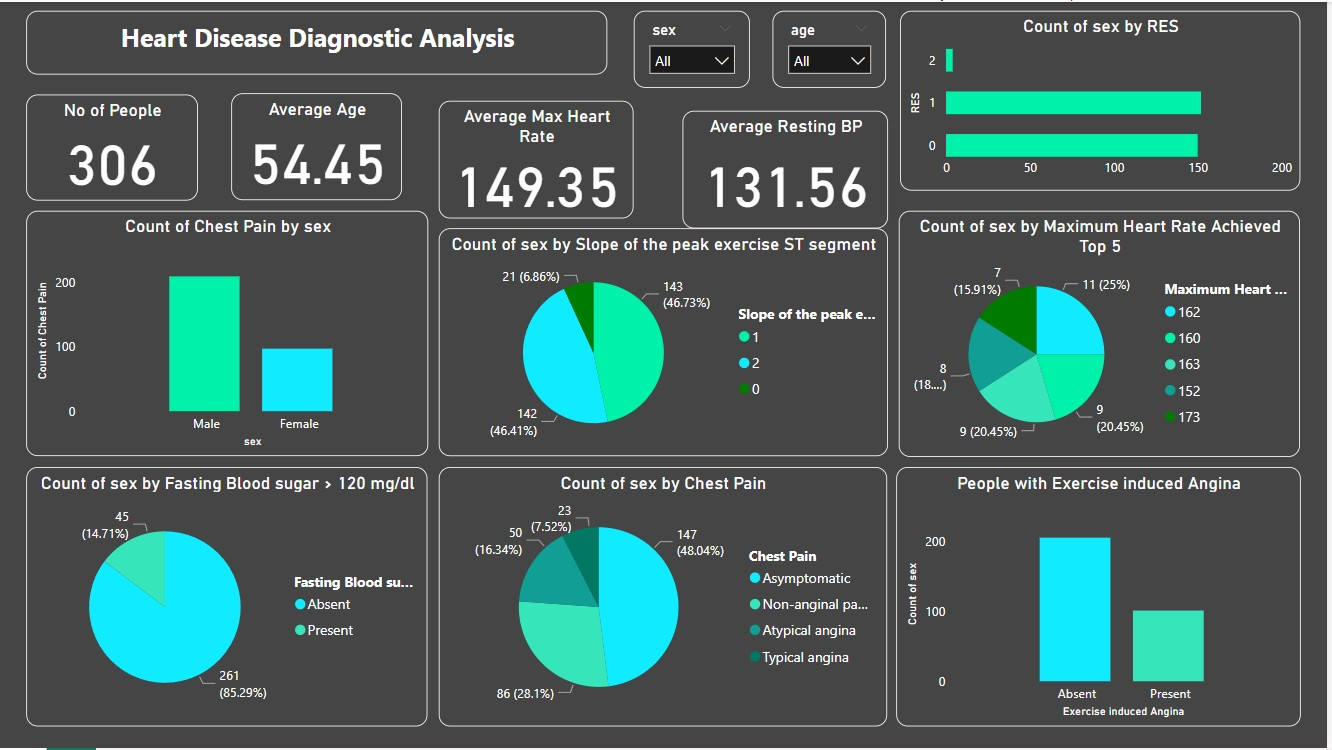

The dashboard page shown, as its layout file describes it:
{"tool":"powerbi","page":{"name":"Page 1","canvas":[1280,720],"ordinal":0},"visuals":[{"type":"columnChart","fields":{"Category":["Heart Disease data.sex"],"Y":["CountNonNull(Heart Disease data.Chest Pain)"]},"box":[25,201.7,388.3,236.7],"z":0},{"type":"pieChart","fields":{"Y":["CountNonNull(Heart Disease data.sex)"],"Category":["Heart Disease data.Chest Pain"]},"box":[423.8,448.8,432.5,250],"z":1000},{"type":"slicer","fields":{"Values":["Heart Disease data.sex"]},"box":[611.7,8.4,112.2,74.8],"z":2000},{"type":"pieChart","fields":{"Y":["CountNonNull(Heart Disease data.sex)"],"Category":["Heart Disease data.Fasting Blood sugar > 120 mg/dl"]},"box":[25,448.8,387.5,250],"z":3000},{"type":"clusteredColumnChart","title":"People with Exercise induced Angina","fields":{"Category":["Heart Disease data.Exercise induced Angina"],"Y":["CountNonNull(Heart Disease data.sex)"]},"box":[865,448.8,390,250],"z":4000},{"type":"slicer","fields":{"Values":["Heart Disease data.age"]},"box":[745.6,8.4,109.8,74.8],"z":5000},{"type":"pieChart","fields":{"Y":["CountNonNull(Heart Disease data.sex)"],"Category":["Heart Disease data.Slope of the peak exercise ST segment"]},"box":[423.3,218.3,433.3,220],"z":6000},{"type":"pieChart","title":"Count of sex by Maximum Heart Rate Achieved Top 5","fields":{"Y":["CountNonNull(Heart Disease data.sex)"],"Category":["Heart Disease data.Maximum Heart Rate Achieved"]},"box":[867.5,201.2,387.5,237.5],"z":7000},{"type":"textbox","box":[25.3,8.4,561,61.5],"z":8000},{"type":"barChart","fields":{"Category":["Heart Disease data.Resting Electrocardiographic results"],"Y":["CountNonNull(Heart Disease data.sex)"]},"box":[868.3,8.3,386.7,173.3],"z":9000},{"type":"card","title":"No of People","fields":{"Values":["CountNonNull(Heart Disease data.age)"]},"box":[25.6,88.9,165.6,102.2],"z":10000},{"type":"card","title":"Average Age","fields":{"Values":["Avg(Heart Disease data.age)"]},"box":[223.3,88.3,165,103.3],"z":11000},{"type":"card","title":"Average Max Heart Rate","fields":{"Values":["Avg(Heart Disease data.Maximum Heart Rate Achieved)"]},"box":[423.3,95,188.3,113.3],"z":12000},{"type":"card","title":"Average Resting BP","fields":{"Values":["Avg(Heart Disease data.Resting Blood Pressure )"]},"box":[658.3,105,198.3,113.3],"z":13000}]}

Visuals, with their boxes in screenshot pixels (x1, y1, x2, y2), scaled from the page's 1280x720 canvas onto the 1332x750 screenshot:
columnChart - Heart Disease data.sex x CountNonNull(Heart Disease data.Chest Pain): (26,210,430,457)
pieChart - CountNonNull(Heart Disease data.sex) x Heart Disease data.Chest Pain: (441,468,891,728)
slicer - Heart Disease data.sex: (637,9,753,87)
pieChart - CountNonNull(Heart Disease data.sex) x Heart Disease data.Fasting Blood sugar > 120 mg/dl: (26,468,429,728)
"People with Exercise induced Angina" clusteredColumnChart: (900,468,1306,728)
slicer - Heart Disease data.age: (776,9,890,87)
pieChart - CountNonNull(Heart Disease data.sex) x Heart Disease data.Slope of the peak exercise ST segment: (440,227,891,457)
"Count of sex by Maximum Heart Rate Achieved Top 5" pieChart: (903,210,1306,457)
textbox: (26,9,610,73)
barChart - Heart Disease data.Resting Electrocardiographic results x CountNonNull(Heart Disease data.sex): (904,9,1306,189)
"No of People" card: (27,93,199,199)
"Average Age" card: (232,92,404,200)
"Average Max Heart Rate" card: (440,99,636,217)
"Average Resting BP" card: (685,109,891,227)
